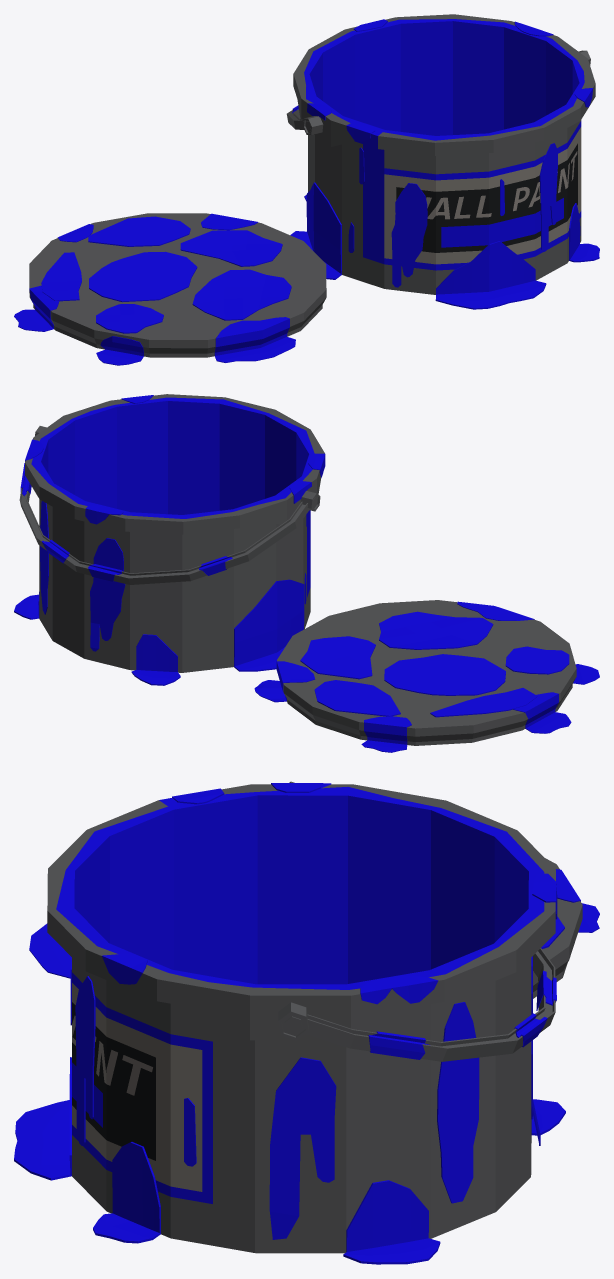
The model's file is SM_A_TIN_OF_PAINT_RED_EMPTY.gltf.
The picture shows the model from 3 angles, top to bottom: view 1: azimuth 30°, elevation 25°; view 2: azimuth 150°, elevation 25°; view 3: azimuth 270°, elevation 25°; orthographic projection. The views are drawn at different scales.
Parts seen in each view (by area): view 1: SM_A_TIN_OF_PAINT_RED_EMPTY; view 2: SM_A_TIN_OF_PAINT_RED_EMPTY; view 3: SM_A_TIN_OF_PAINT_RED_EMPTY.
Boxes of the visible parts, x1=… form: SM_A_TIN_OF_PAINT_RED_EMPTY: x1=14, y1=14, x2=599, y2=365; SM_A_TIN_OF_PAINT_RED_EMPTY: x1=14, y1=394, x2=599, y2=752; SM_A_TIN_OF_PAINT_RED_EMPTY: x1=14, y1=781, x2=599, y2=1264.
Size of the model in its own units: 0.6823 by 0.1898 by 0.3718.
